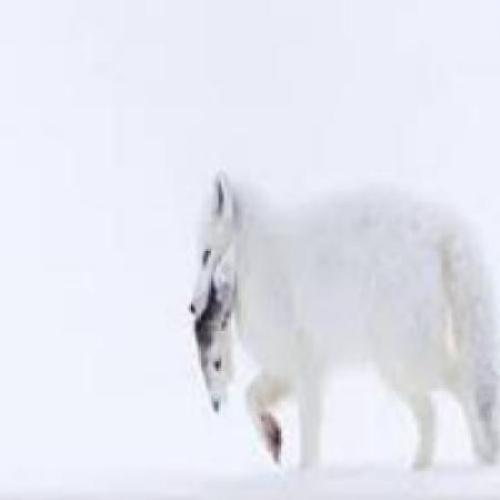arctic_fox-endangered: (185, 166, 500, 472)
